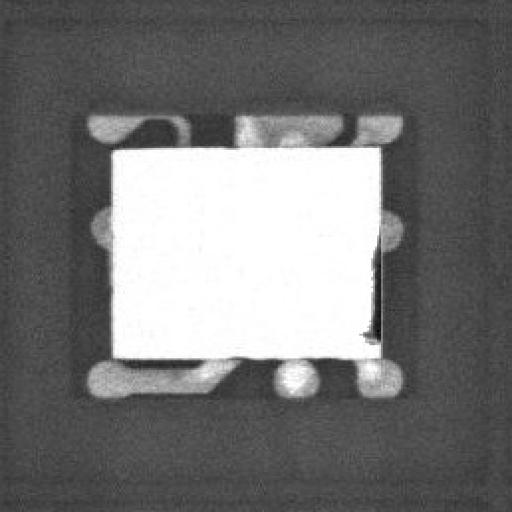DIE_BROKEN: (355, 235, 385, 349)
